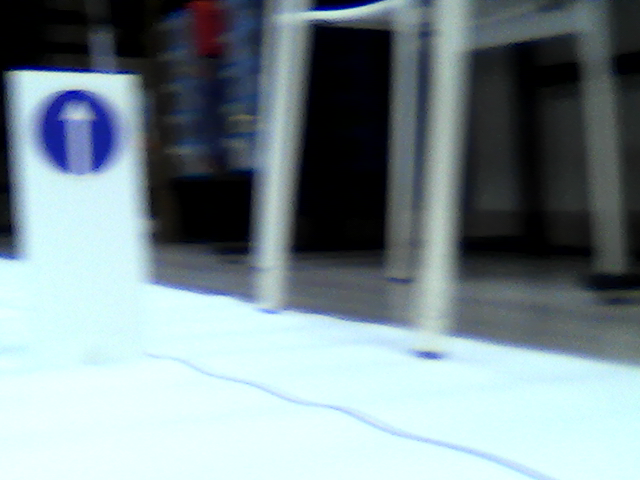forw: (30, 85, 120, 175)
